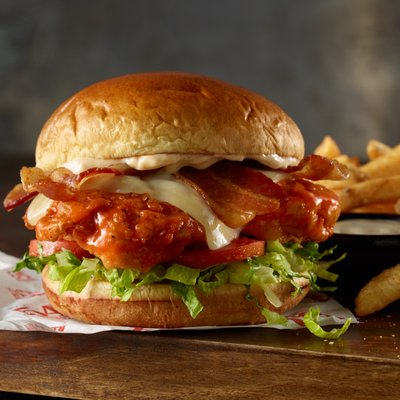soup: (7, 73, 379, 331)
